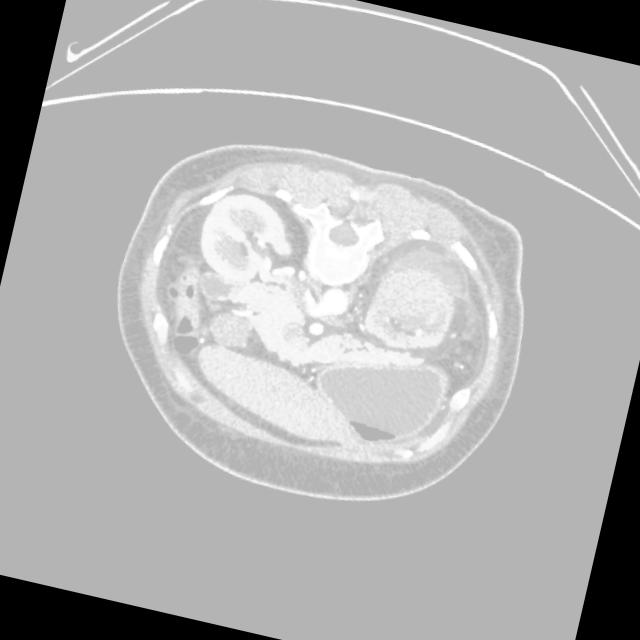TUMOR: (110, 193, 493, 472)
